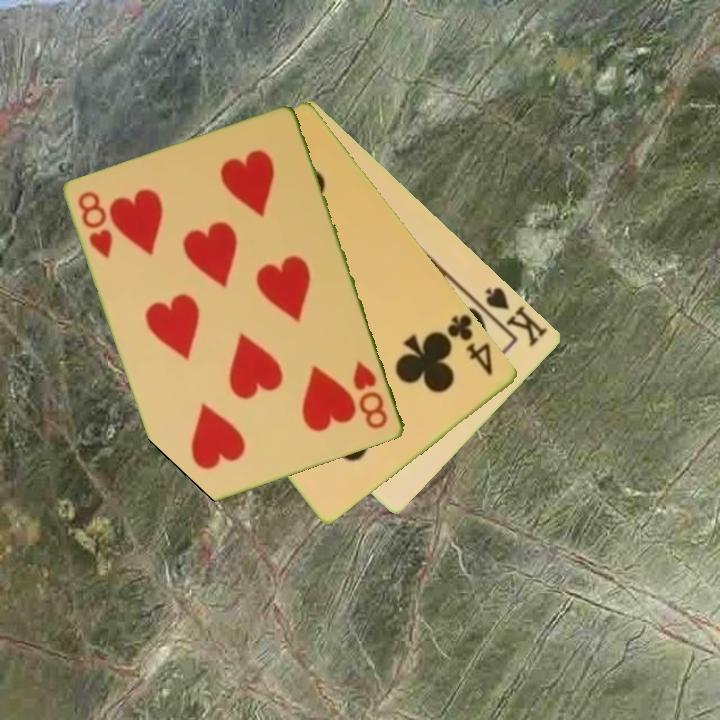4c: (439, 310, 497, 379)
8h: (349, 358, 391, 433), (75, 188, 117, 262)
Ks: (482, 283, 551, 350)
